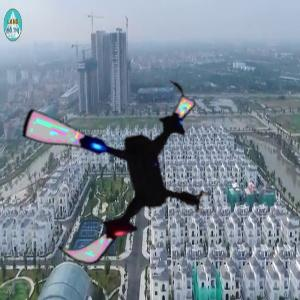drone: (9, 62, 222, 275)
